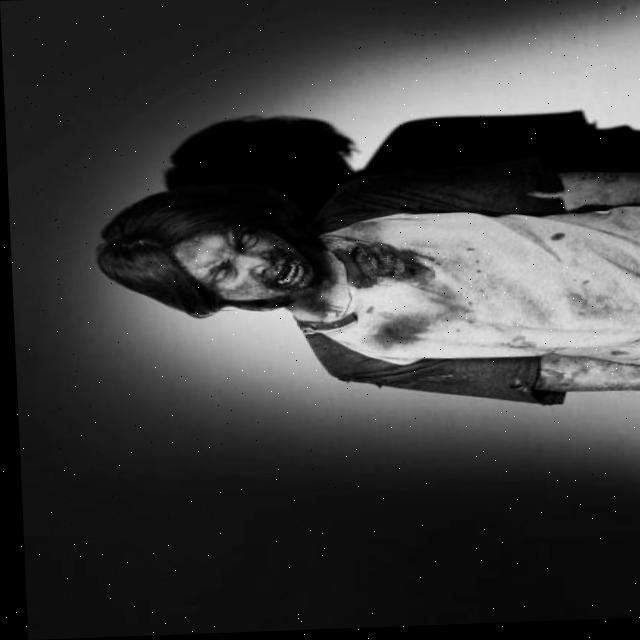Zombie: (182, 215, 319, 310)
